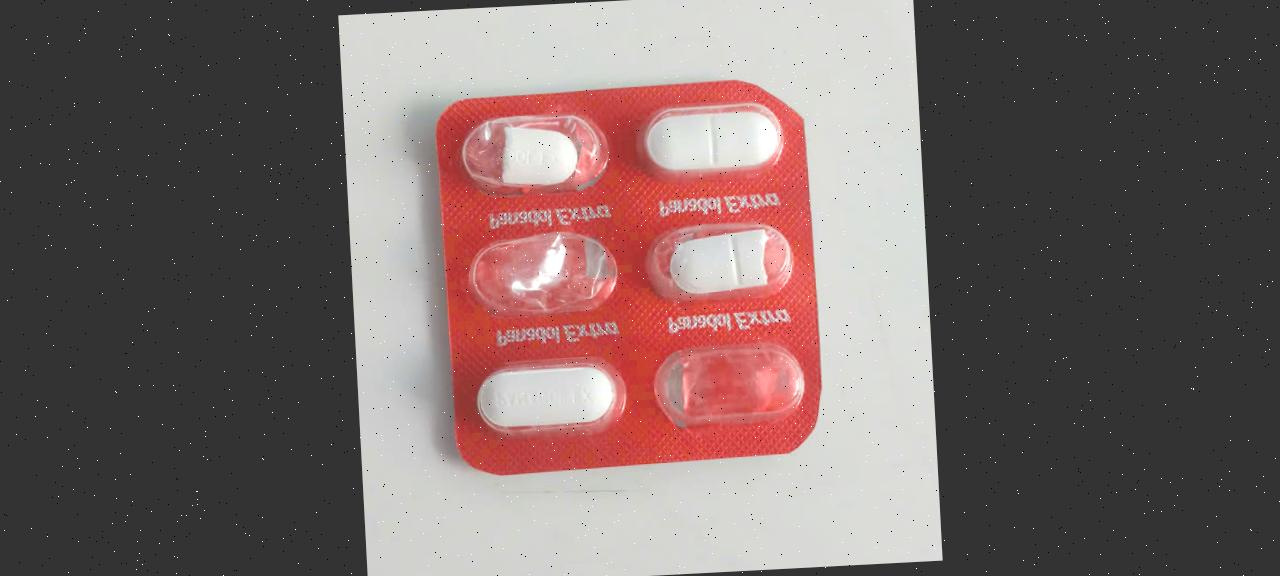Empty: (649, 337, 815, 441), (466, 219, 632, 323)
Full: (644, 222, 810, 327), (463, 344, 629, 448), (628, 85, 794, 189)
Partial: (454, 102, 621, 206)
